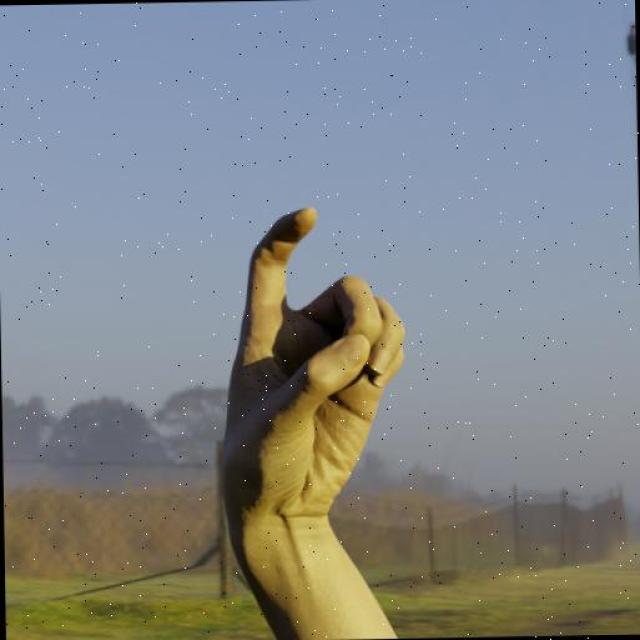X: (211, 198, 412, 537)
